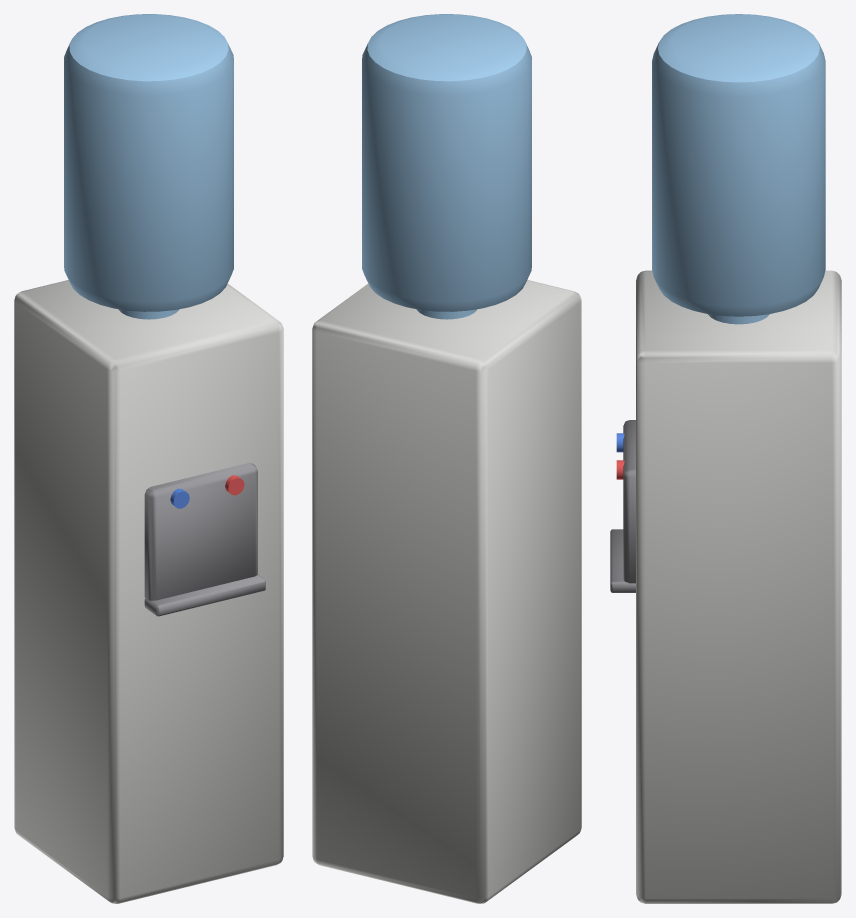
File: water_cooler.glb
3 views of the same model, side by side, from view 1: azimuth 30°, elevation 25°; view 2: azimuth 150°, elevation 25°; view 3: azimuth 270°, elevation 25° (orthographic).
Visible parts, largest first — view 1: water_cooler; view 2: water_cooler; view 3: water_cooler.
Boxes of the visible parts, <box> form: water_cooler: <box>14,14,283,903</box>; water_cooler: <box>312,14,581,903</box>; water_cooler: <box>610,14,841,903</box>.
Size of the model in its own units: 0.32 by 1.41 by 0.36.
